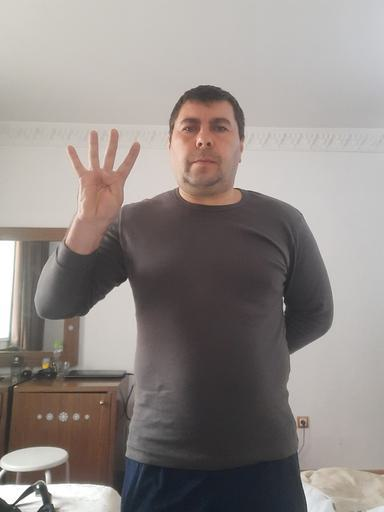four: (65, 127, 142, 227)
